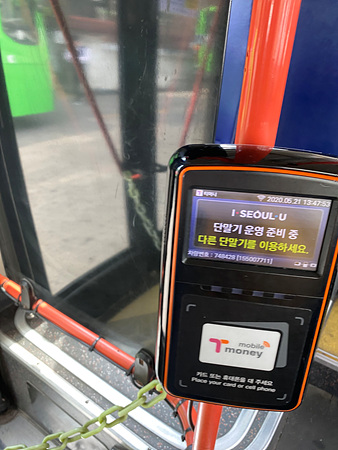terminal: (167, 153, 334, 405)
